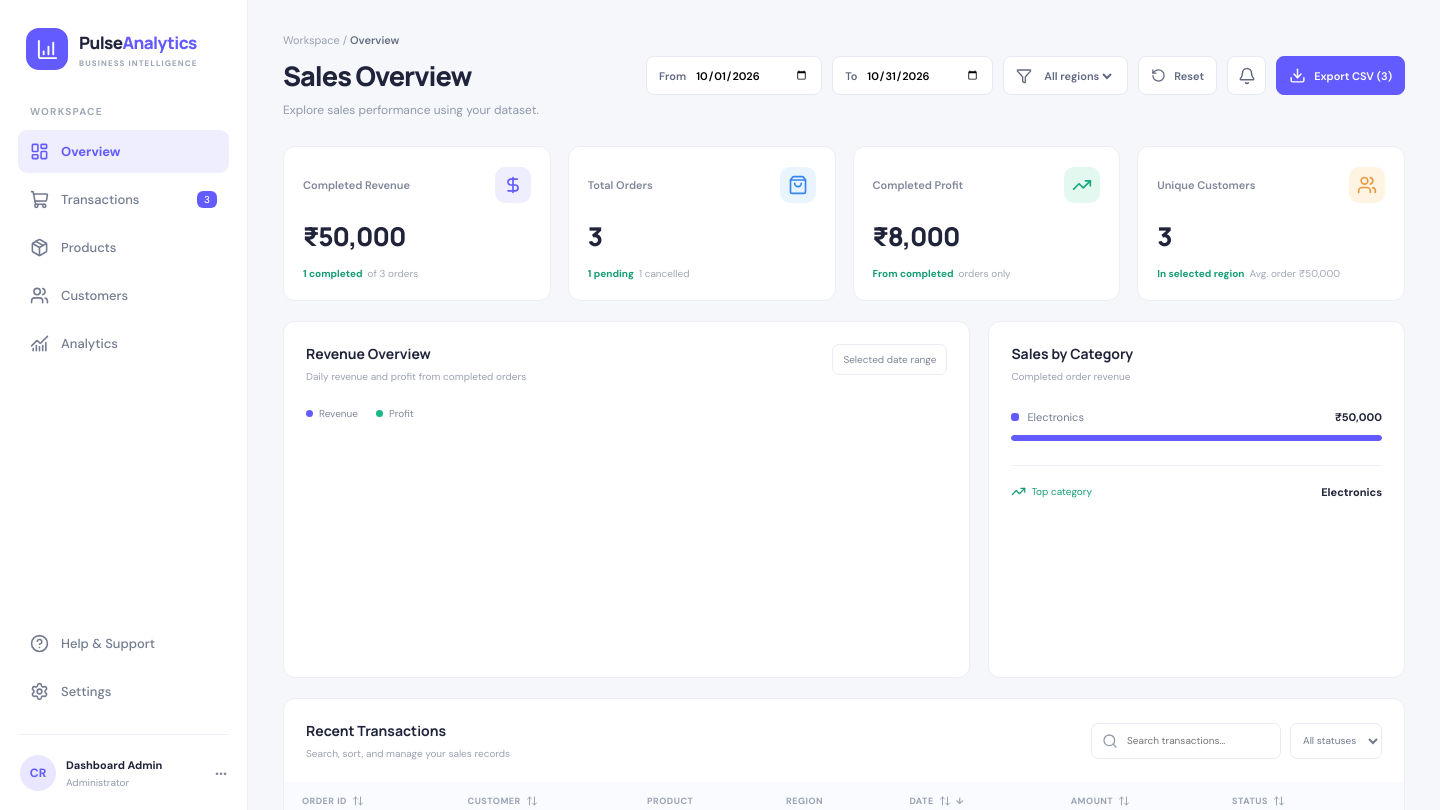
Test: App integration › shows product and customer summaries
This screenshot has width=1440, height=810.
Expected: the heading "Sales Overview" is shown, [283,57,471,94]
What coordinates should you click on to do the following:
click the button "Products"
I would click on:
 (124, 248)
Its box is [18,226,229,269].
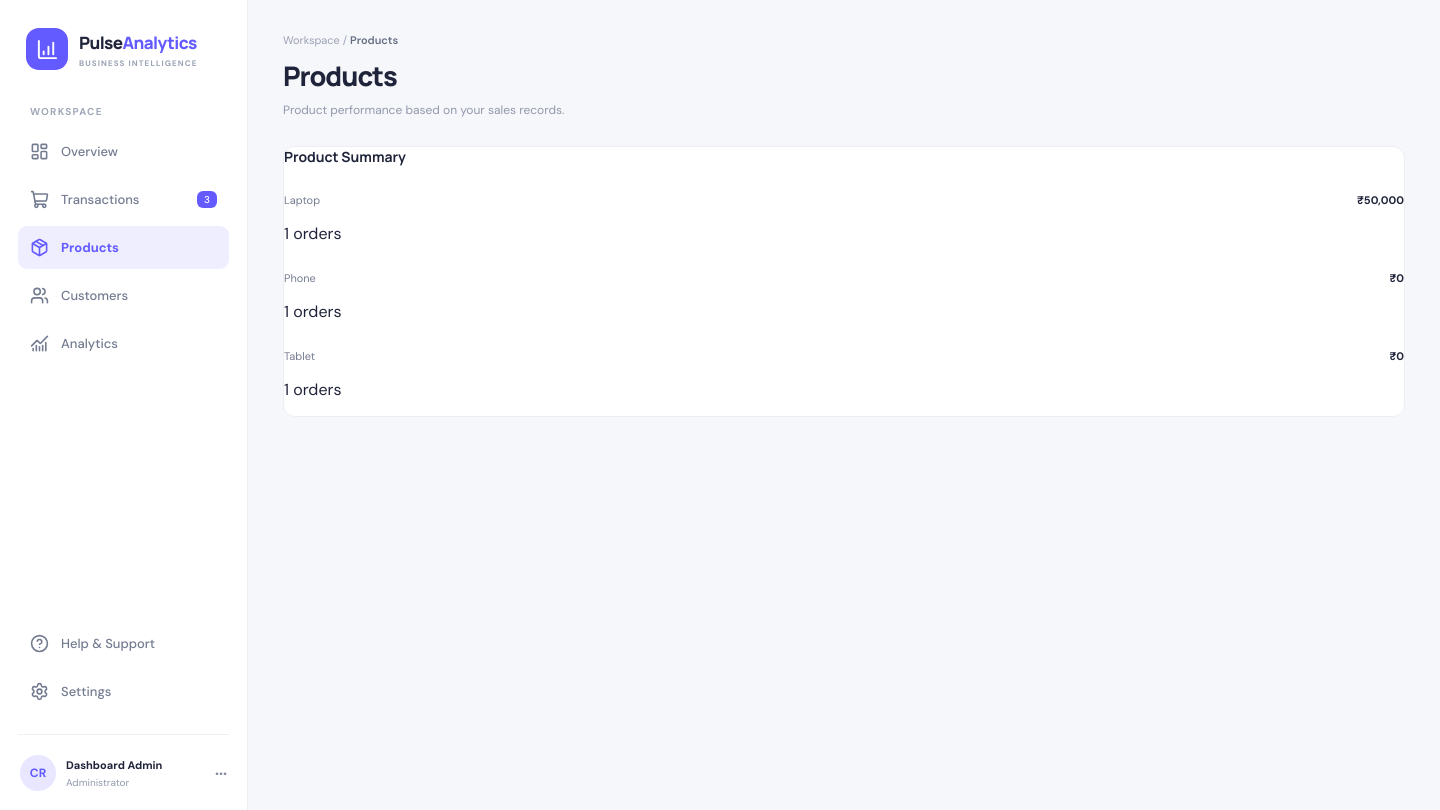
Expected: the text "Laptop" is shown, [284,193,320,207]
Now the heading "Product Summary" is shown, box [284,147,406,166]
What coordinates should you click on to do the following:
click the button "Customers"
I would click on:
 (124, 296)
Its box is [18,274,229,317].
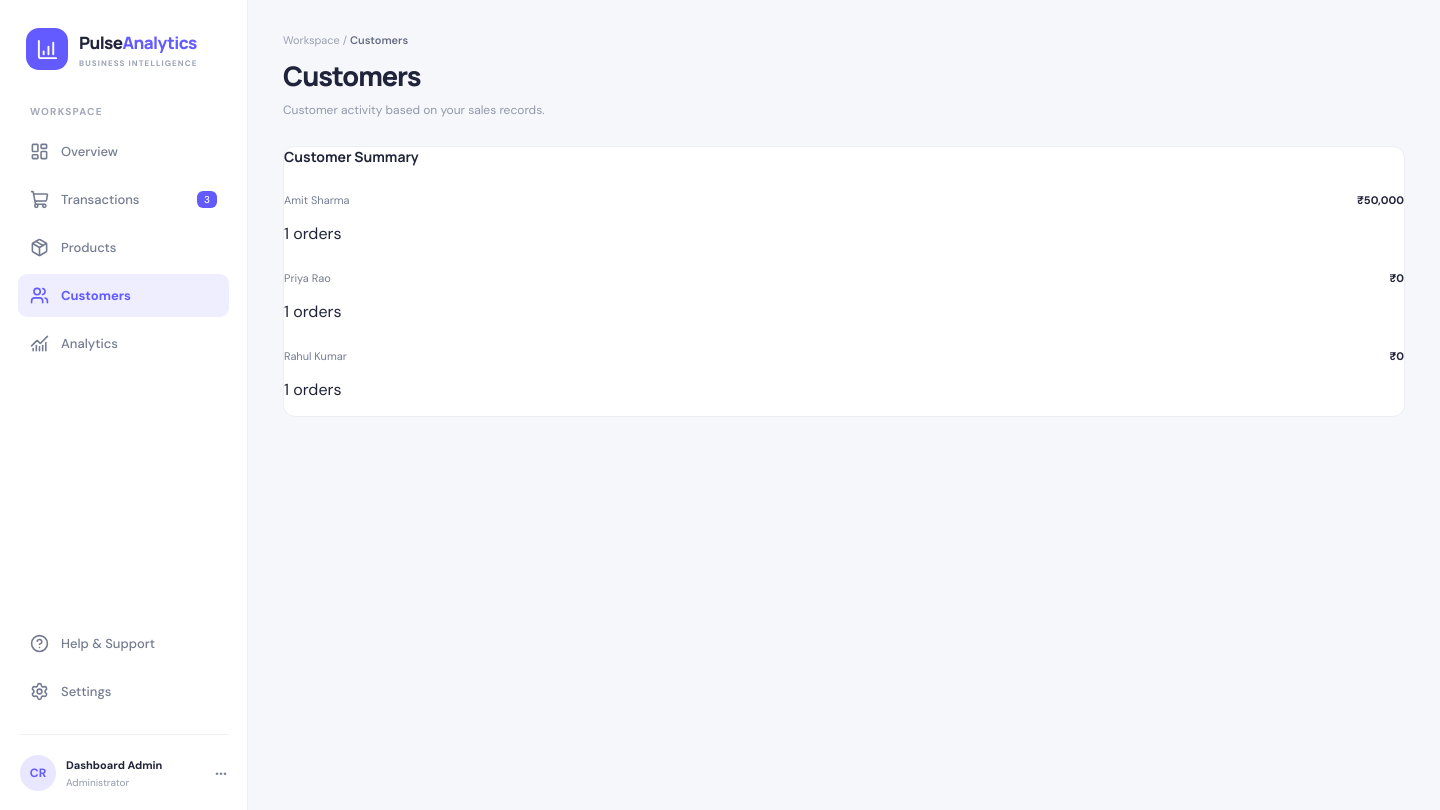
Now the heading "Customer Summary" is shown, box [284,147,419,166]
Now the text "Amit Sharma" is shown, box [284,193,350,207]
